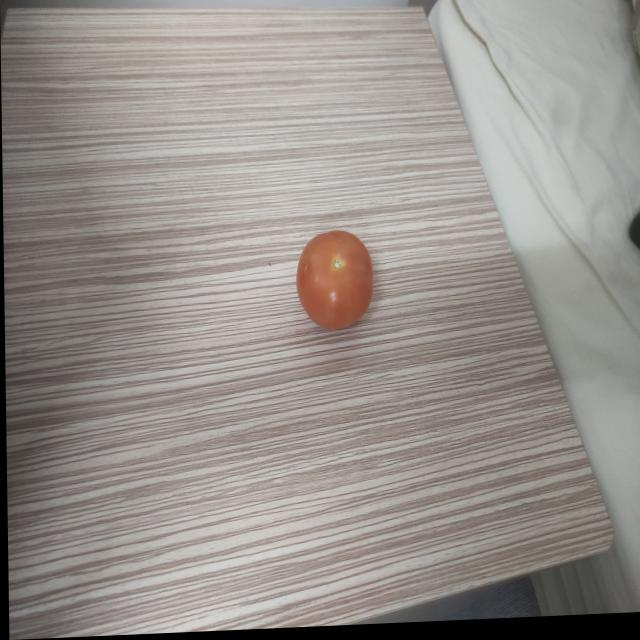sari: (283, 208, 383, 346)
